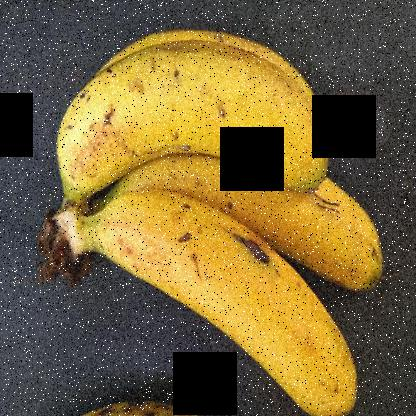ripe: (79, 192, 356, 415), (48, 29, 338, 184), (185, 158, 384, 290)
